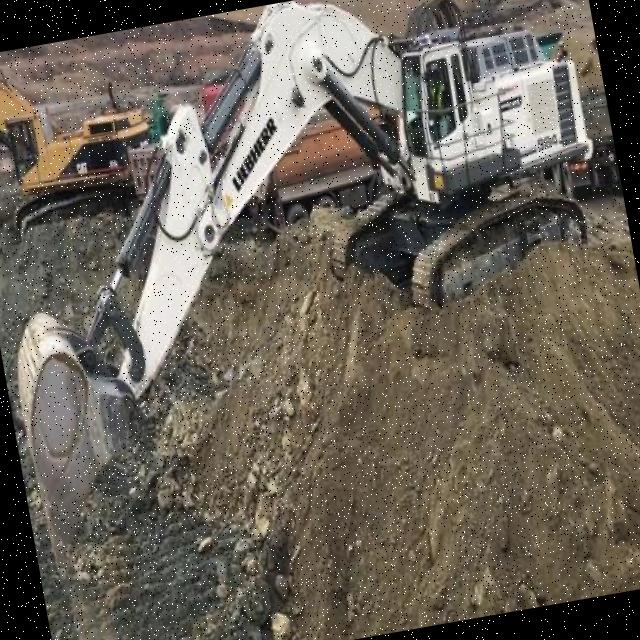Excavator: (0, 0, 638, 543), (0, 33, 159, 239)
